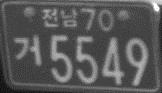0: (97, 9, 115, 34)
4: (101, 35, 126, 85)
5: (73, 34, 99, 85), (48, 35, 75, 83)
7: (79, 7, 96, 32)
9: (126, 36, 150, 87)
거: (13, 33, 39, 69)
전남_O: (41, 7, 78, 31)
